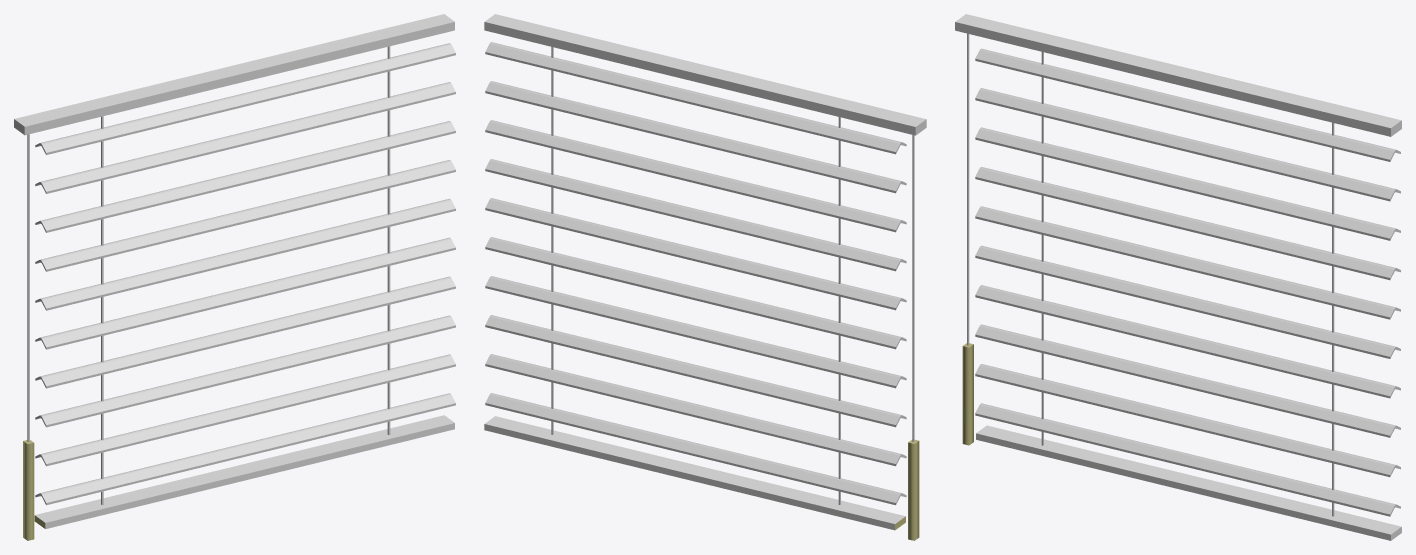
File: Shutters_Open.fbx
3 renders of one model, left to right at view 1: azimuth 30°, elevation 25°; view 2: azimuth 150°, elevation 25°; view 3: azimuth 330°, elevation 25°, orthographic.
Parts seen in each view (by area): view 1: Shutter_Open; view 2: Shutter_Open; view 3: Shutter_Open.
Boxes of the visible parts, x1,y1,x2,y2 form: Shutter_Open: [14, 14, 455, 540]; Shutter_Open: [484, 14, 926, 540]; Shutter_Open: [955, 14, 1401, 540].
Size of the model in its own units: 121 by 112 by 5.62.
